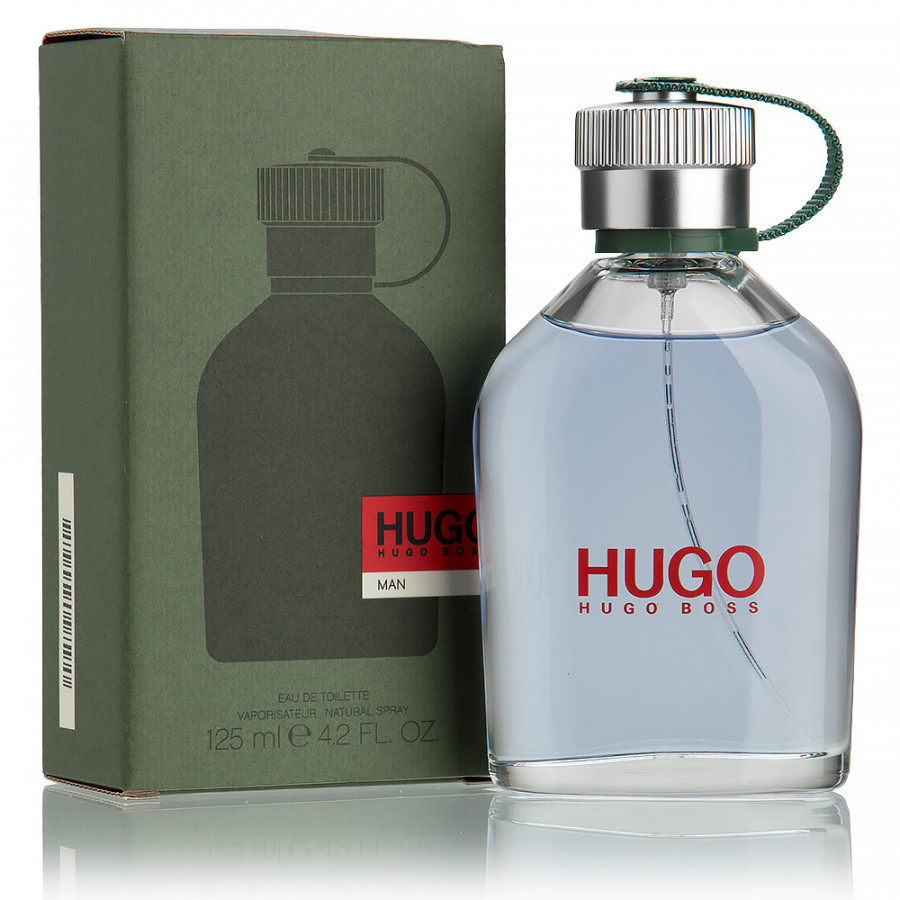Hugo Boss: (572, 598, 775, 624)
